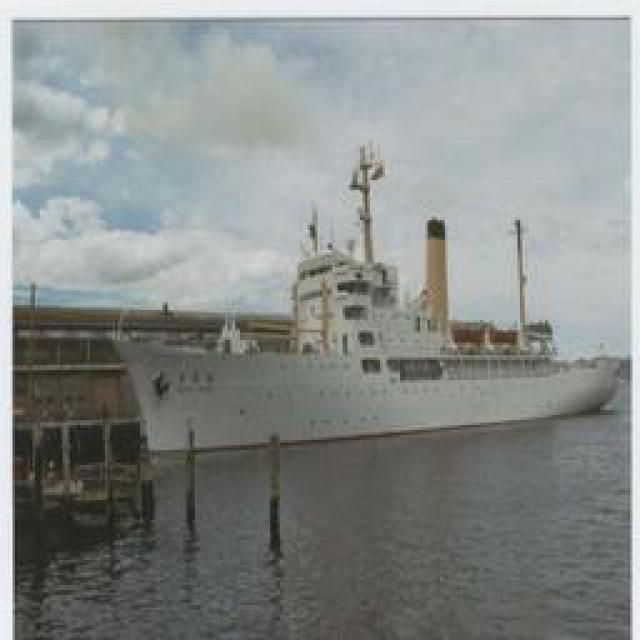Ship: (100, 135, 618, 458)
